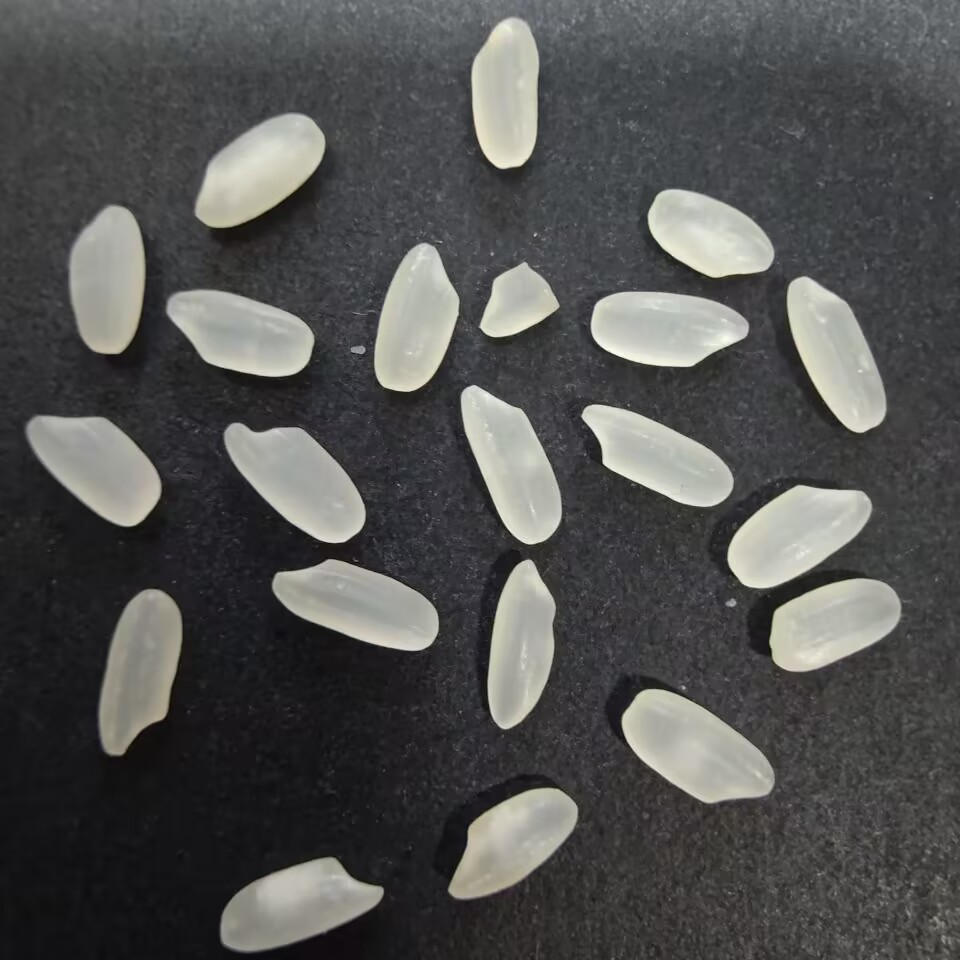broken: (473, 259, 563, 341)
rice: (217, 415, 373, 549), (614, 683, 782, 806), (572, 401, 741, 514), (211, 849, 388, 954), (456, 382, 567, 549), (19, 408, 166, 532), (269, 554, 443, 658), (781, 274, 889, 438), (722, 480, 878, 591), (193, 111, 330, 234), (445, 782, 582, 903), (93, 586, 185, 761), (160, 285, 321, 381), (762, 574, 904, 680), (61, 200, 151, 362), (369, 239, 460, 396), (582, 289, 752, 373), (483, 556, 561, 732), (642, 186, 779, 282), (464, 14, 547, 172)
